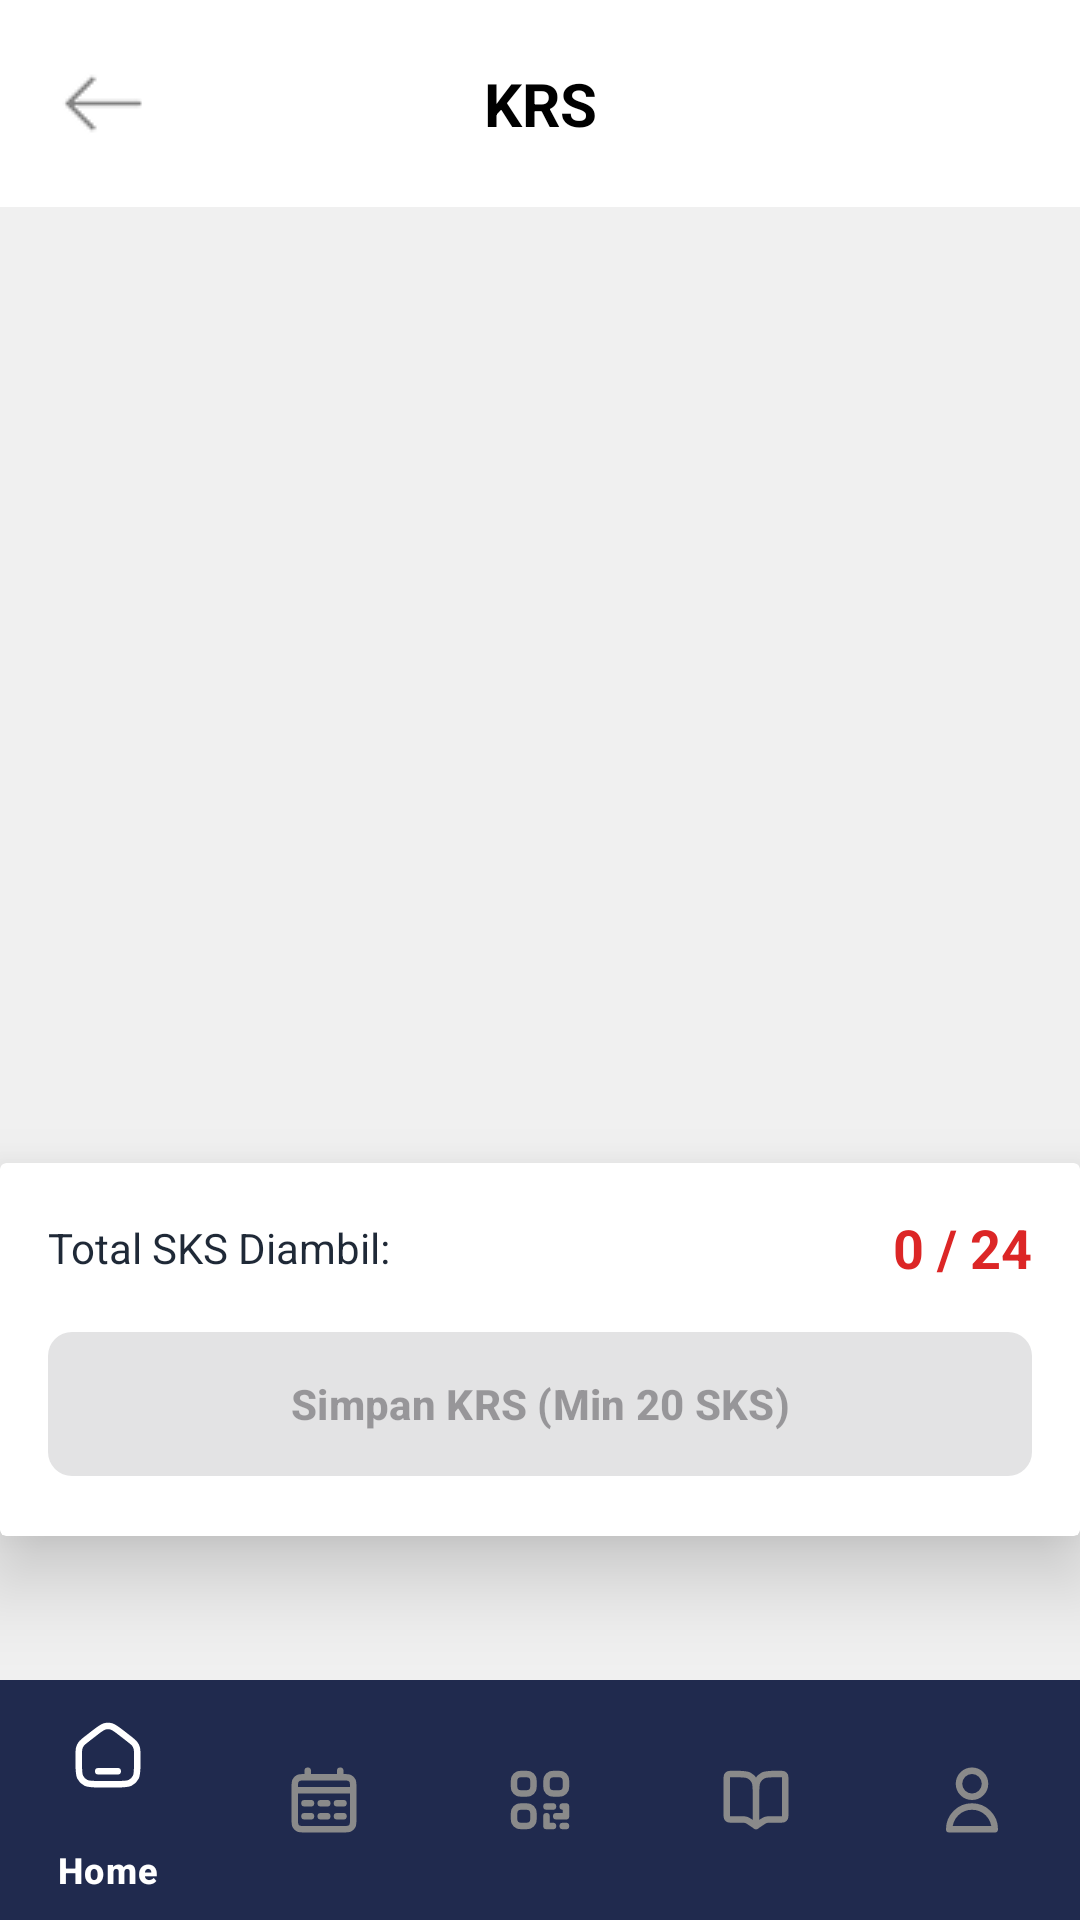

Point at icon controls on the screen. Image size 1080 x 1920, points as (x=x, y=y).
arrow back: (x=103, y=104)
